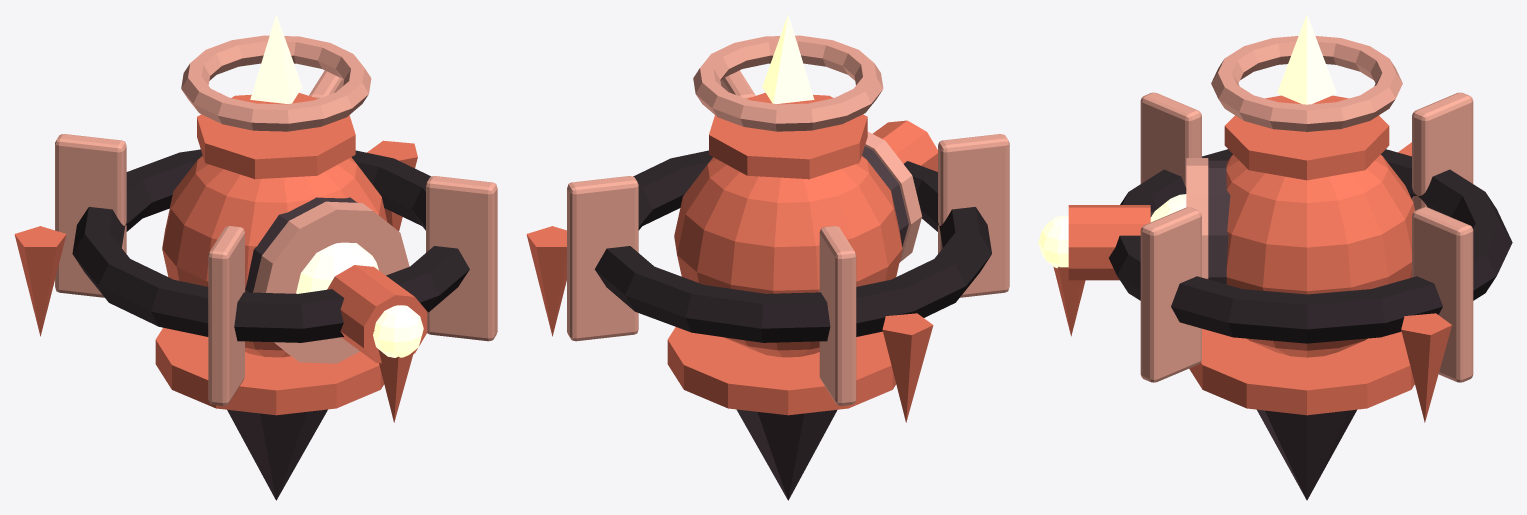
The model's file is SM_Sentinel.fbx.
The picture shows the model from 3 angles, left to right: view 1: azimuth 30°, elevation 25°; view 2: azimuth 150°, elevation 25°; view 3: azimuth 270°, elevation 25°; orthographic projection.
Visible parts, largest first — view 1: SM_Sentinel; view 2: SM_Sentinel; view 3: SM_Sentinel.
Part boxes in pixels (bbox=[...]): SM_Sentinel: bbox=[14, 14, 497, 500]; SM_Sentinel: bbox=[526, 14, 1009, 500]; SM_Sentinel: bbox=[1038, 14, 1512, 500].
Size of what is drawn, in the model's own units: 1.68 by 1.96 by 1.73.
